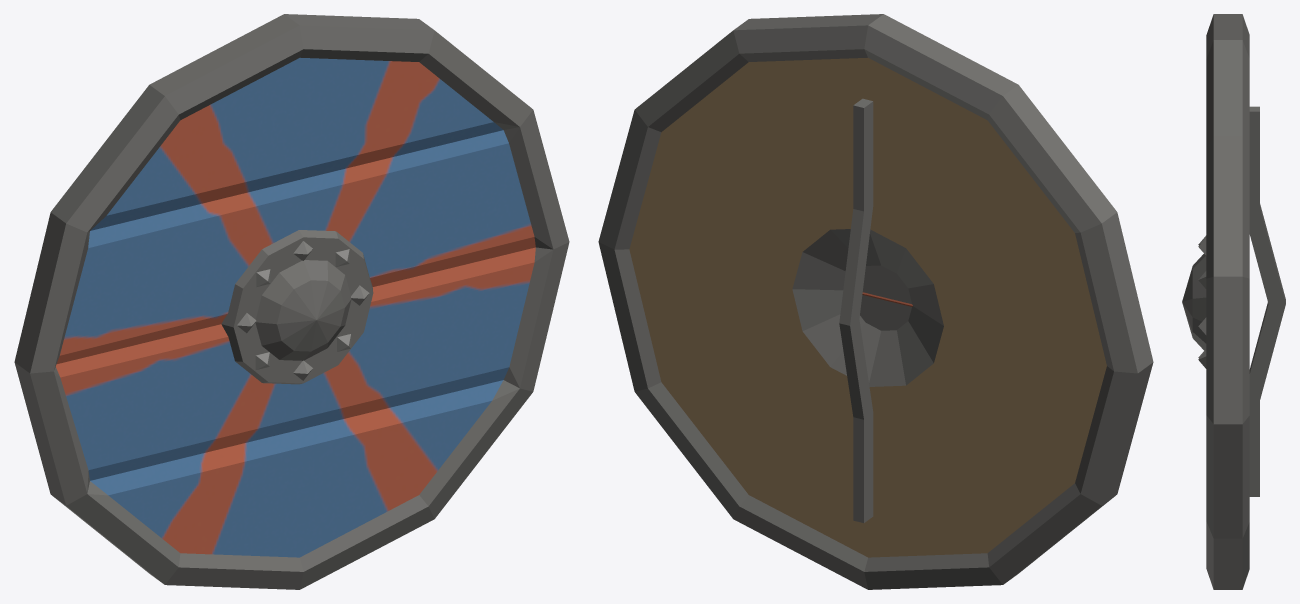
File: SM_pwe_slavic_shield_03g.fbx
3 views of the same model, side by side, from view 1: azimuth 30°, elevation 25°; view 2: azimuth 150°, elevation 25°; view 3: azimuth 270°, elevation 25° (orthographic). The views are drawn at different scales.
Parts seen in each view (by area): view 1: SM_pwe_slavic_shield_03g; view 2: SM_pwe_slavic_shield_03g; view 3: SM_pwe_slavic_shield_03g.
Part boxes in pixels (box(x1,y1,x2,y2)): SM_pwe_slavic_shield_03g: box(14, 14, 569, 589); SM_pwe_slavic_shield_03g: box(598, 14, 1153, 589); SM_pwe_slavic_shield_03g: box(1182, 14, 1285, 589).
Bounding box in the file's own units: 70.52 × 70.52 × 12.67.
